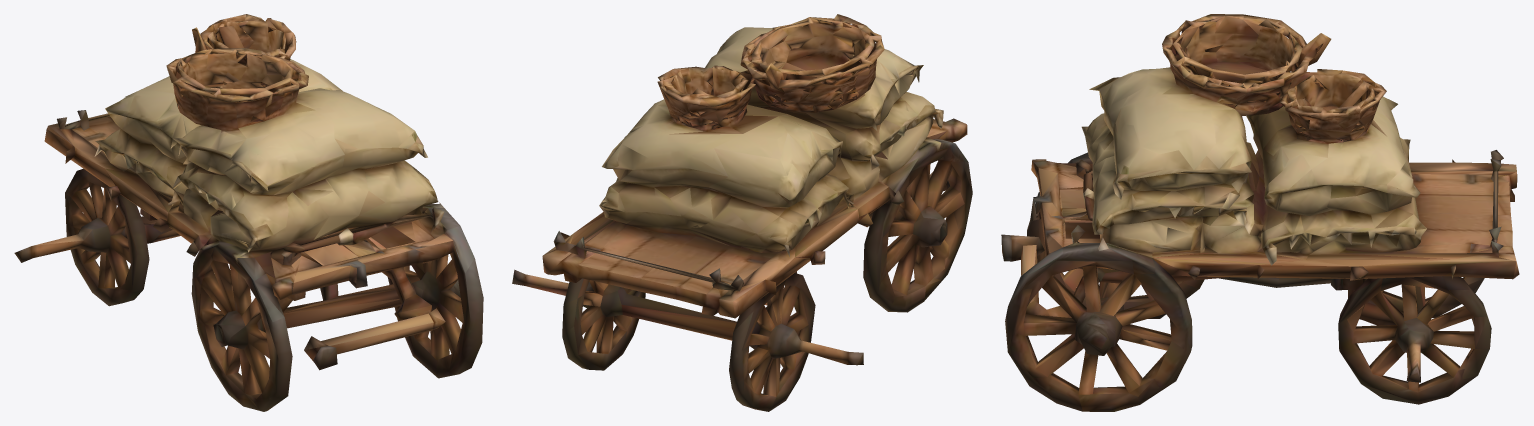
File: relief-cart.glb
3 views of the same model, side by side, from view 1: azimuth 30°, elevation 25°; view 2: azimuth 150°, elevation 25°; view 3: azimuth 270°, elevation 25° (orthographic). The views are drawn at different scales.
Parts seen in each view (by area): view 1: tripo_node_b51df8e0-d3cf-4557-aea3-a179cb13645e; view 2: tripo_node_b51df8e0-d3cf-4557-aea3-a179cb13645e; view 3: tripo_node_b51df8e0-d3cf-4557-aea3-a179cb13645e.
Part boxes in pixels (x1,y1,x2,y2): tripo_node_b51df8e0-d3cf-4557-aea3-a179cb13645e: (14,14,483,411); tripo_node_b51df8e0-d3cf-4557-aea3-a179cb13645e: (512,14,972,411); tripo_node_b51df8e0-d3cf-4557-aea3-a179cb13645e: (1001,14,1519,411).
Bounding box in the file's own units: 1.93 × 1.6 × 2.43.
1 material, 1 textured.
